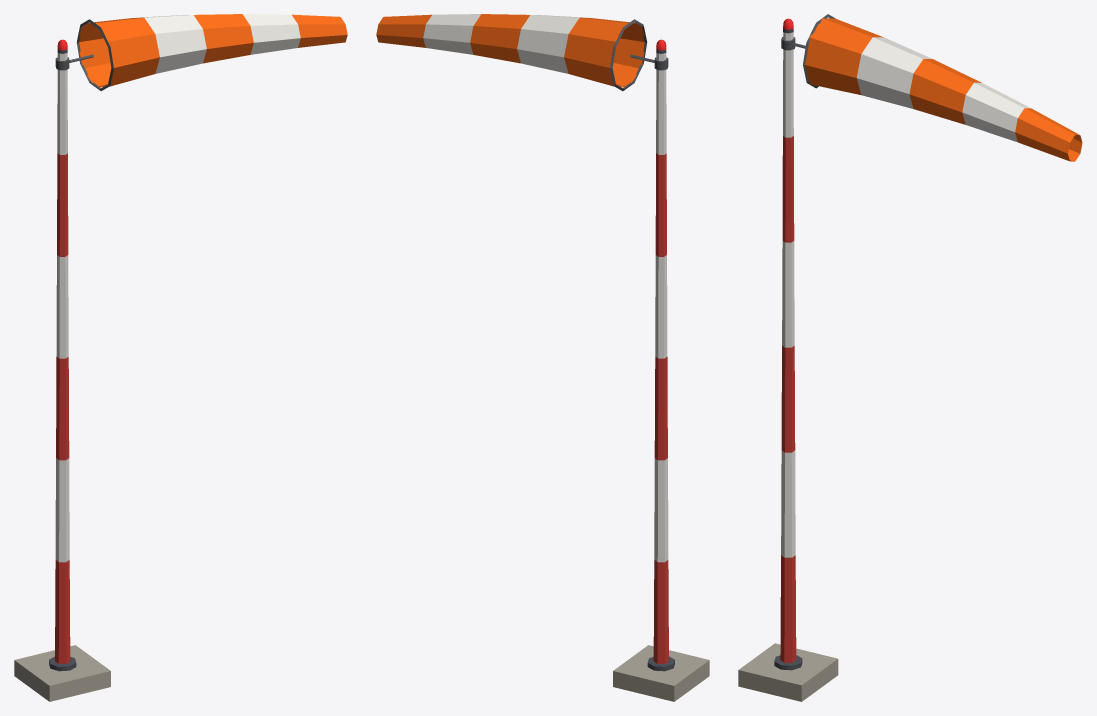
File: prop_windsock.glb
The picture shows the model from 3 angles, left to right: view 1: azimuth 30°, elevation 25°; view 2: azimuth 150°, elevation 25°; view 3: azimuth 330°, elevation 25°; orthographic projection. The views are drawn at different scales.
Visible parts, largest first — view 1: prop_windsock__sock, prop_windsock__mesh; view 2: prop_windsock__sock, prop_windsock__mesh; view 3: prop_windsock__sock, prop_windsock__mesh.
Boxes of the visible parts, bbox=[...] form: prop_windsock__sock: bbox=[55, 14, 347, 91]; prop_windsock__mesh: bbox=[14, 39, 110, 701]; prop_windsock__sock: bbox=[376, 14, 668, 91]; prop_windsock__mesh: bbox=[613, 39, 709, 701]; prop_windsock__sock: bbox=[781, 14, 1082, 161]; prop_windsock__mesh: bbox=[738, 18, 838, 701].
Bounding box in the file's own units: 3.02 × 6.08 × 0.6273.
Materials: 1 (1 with a texture image).
